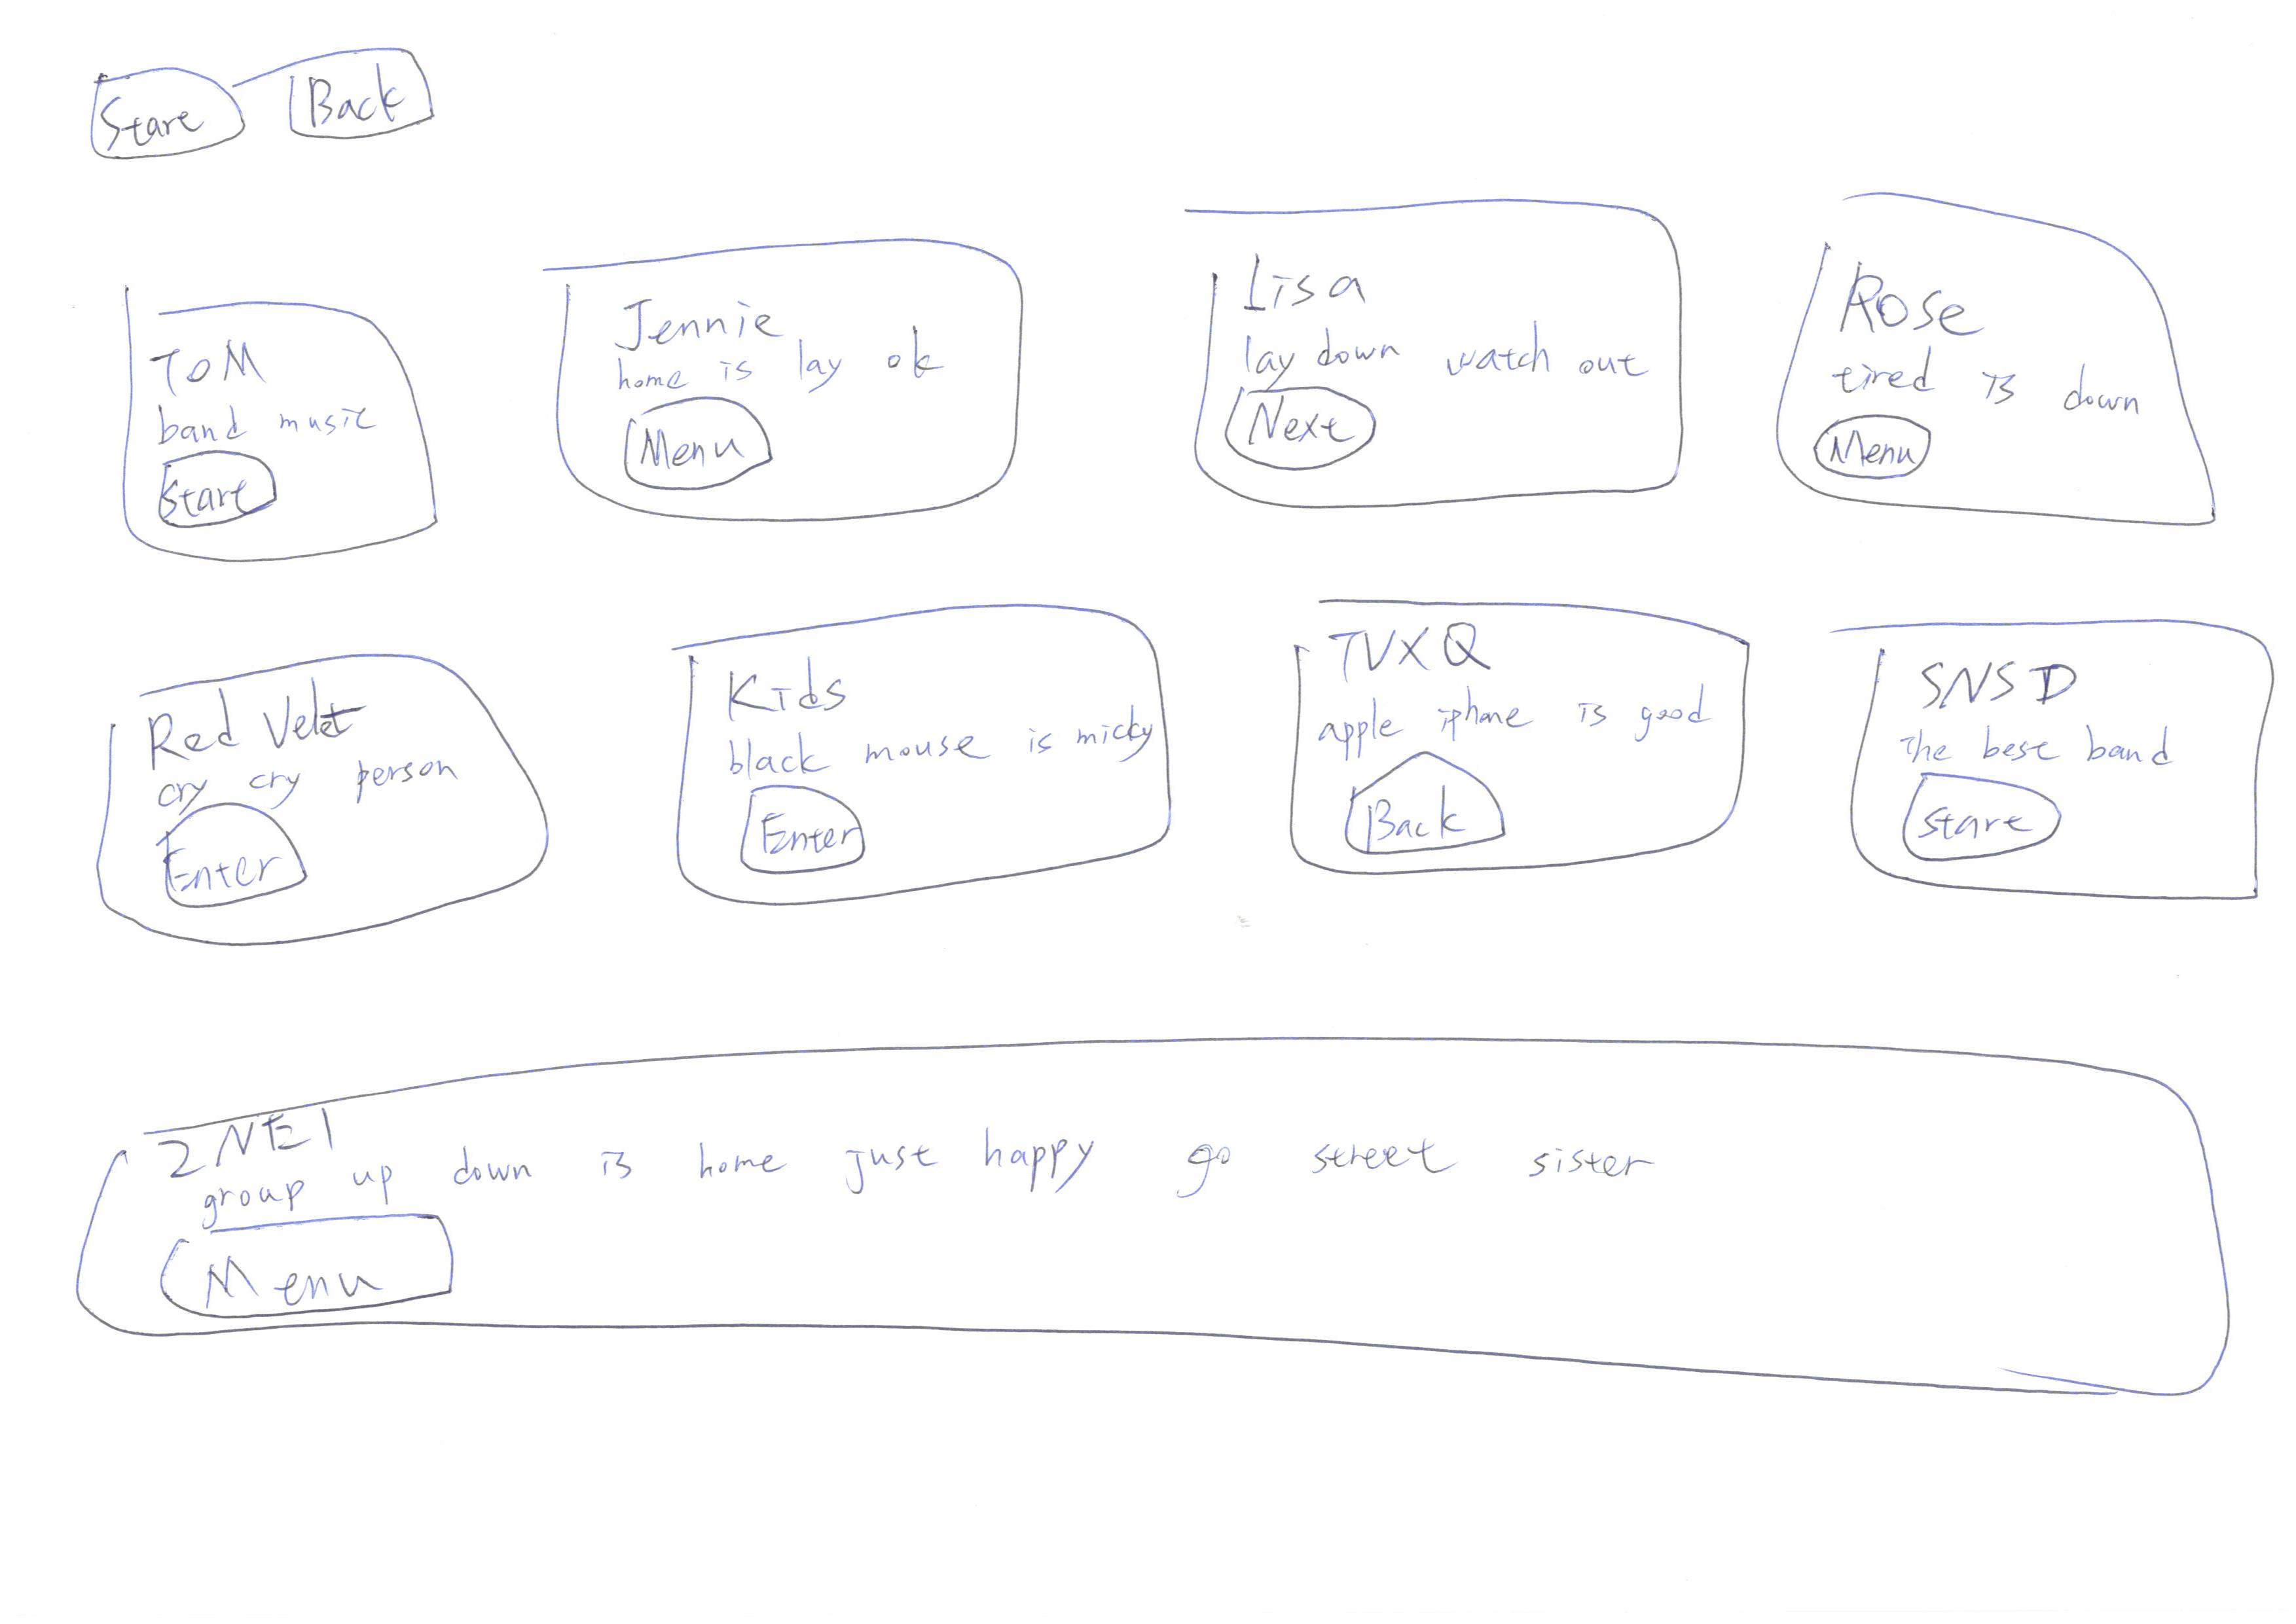back: (251, 26, 450, 163), (1329, 743, 1526, 870)
btn-active: (149, 794, 316, 916), (723, 786, 881, 889)
menu: (132, 1213, 513, 1355), (628, 392, 819, 499), (1798, 406, 1964, 496)
next: (1215, 374, 1412, 497)
quadruple: (1739, 156, 2275, 569), (67, 631, 582, 981), (666, 585, 1180, 932), (1264, 564, 1770, 895), (538, 225, 1053, 545), (1188, 200, 1702, 520), (1823, 608, 2296, 903), (102, 272, 471, 575)
row: (62, 160, 2296, 550), (62, 568, 2296, 958), (62, 1025, 2296, 1415), (32, 11, 2264, 206)
single: (51, 975, 2296, 1434)
small-title: (134, 684, 378, 758), (1899, 643, 2101, 714), (139, 1106, 357, 1167), (1860, 255, 1995, 346), (1341, 615, 1498, 684), (703, 657, 846, 721), (612, 285, 788, 336), (1227, 258, 1382, 311), (151, 332, 272, 390)
start: (70, 49, 253, 172), (1886, 765, 2071, 870), (153, 441, 292, 536)
text: (179, 1146, 1663, 1195), (1311, 684, 1709, 749), (1231, 329, 1642, 383), (1842, 346, 2150, 413), (726, 726, 1152, 770), (156, 394, 385, 464), (629, 344, 942, 394), (1911, 721, 2191, 772), (155, 752, 462, 798)
